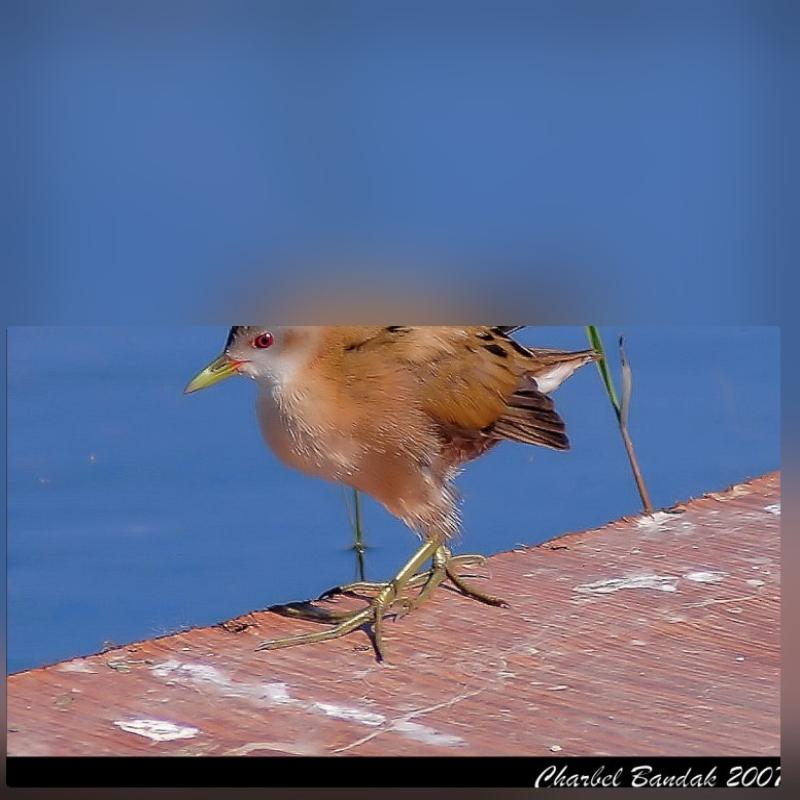little crake: (179, 323, 621, 616)
